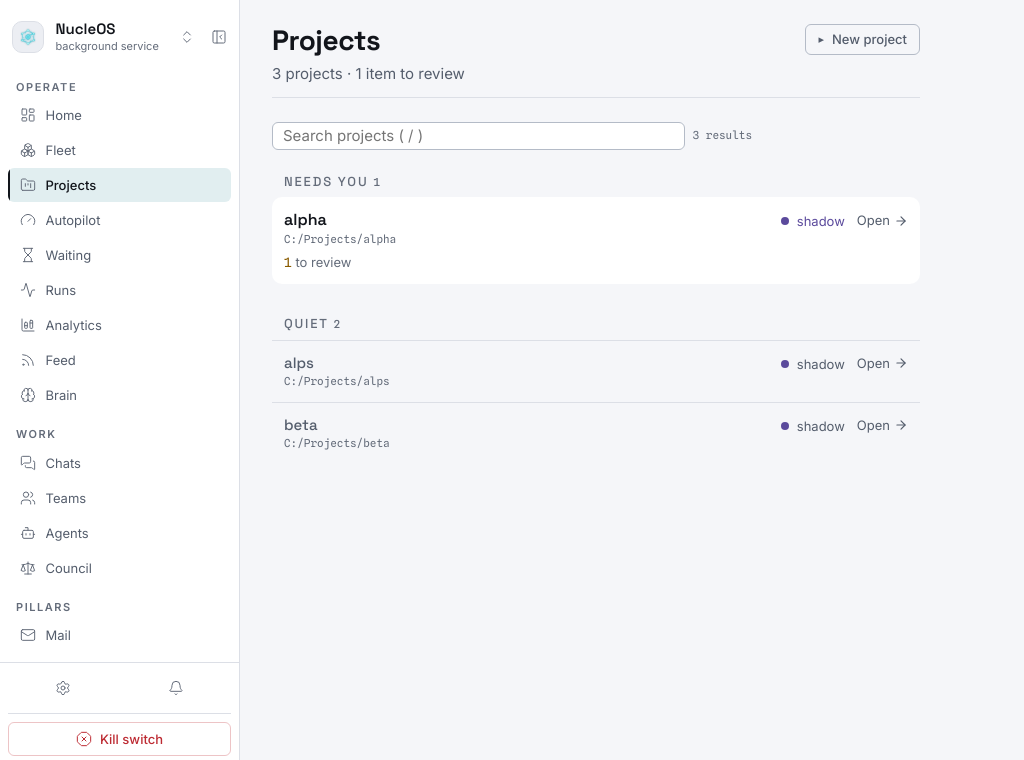
the roster › filters the groups by name and opens the only match on Enter
Expected: the element "Quiet" is shown, [272,316,920,464]
Type "AL" into the search field labelled "Search projects". click: (478, 136)
box: [272,122,685,150]
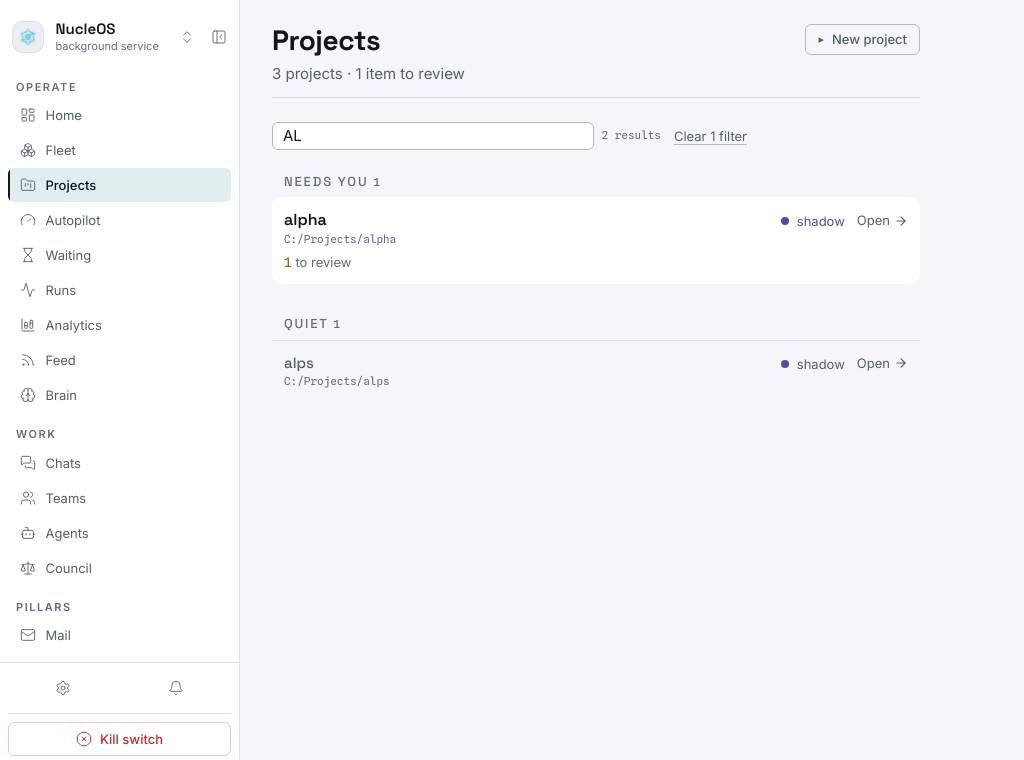
Replace the text in the search field named "Search projects" with "zzz". click: (433, 136)
box: [272,122,594,150]
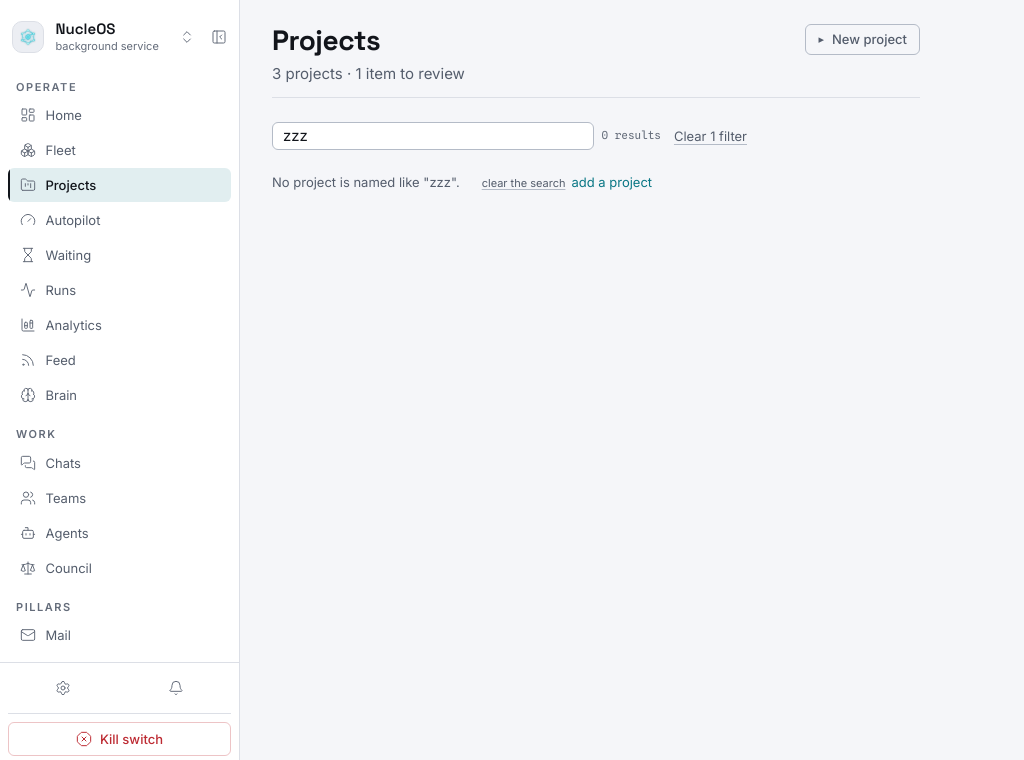
Expected: the text "No project is named like \"zzz\"." is shown, [272,174,460,191]
Replace the text in the search field named "Search projects" with "bet". click: (433, 136)
box: [272,122,594,150]
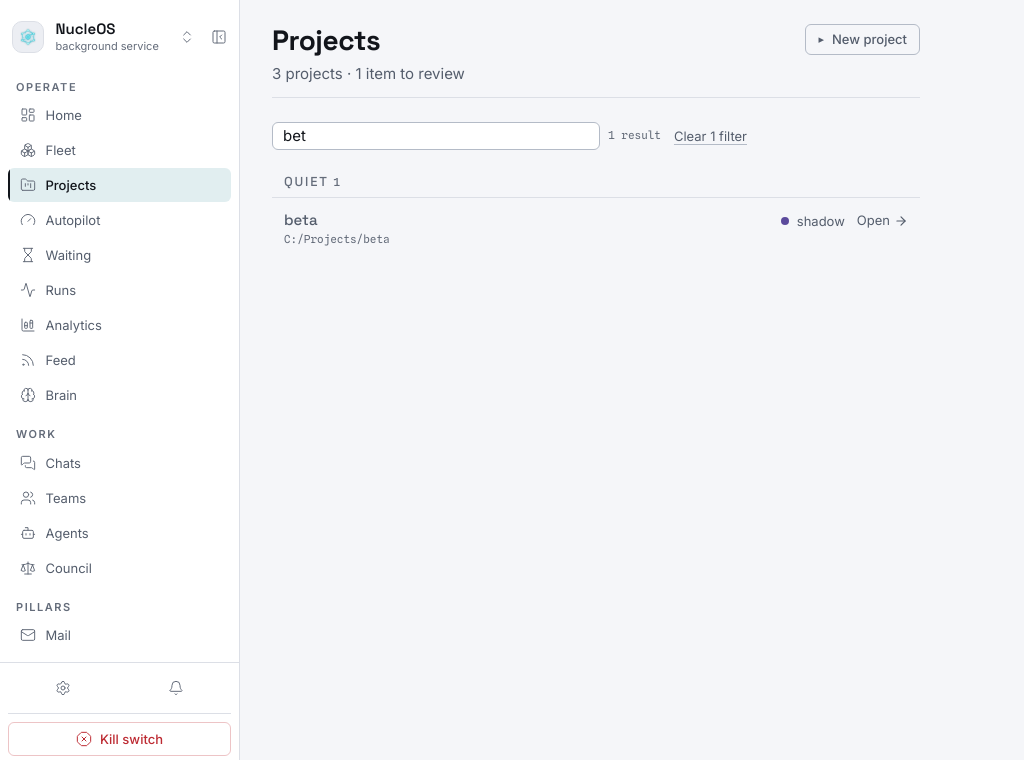
Press Enter in the search field named "Search projects", box [272,122,600,150]
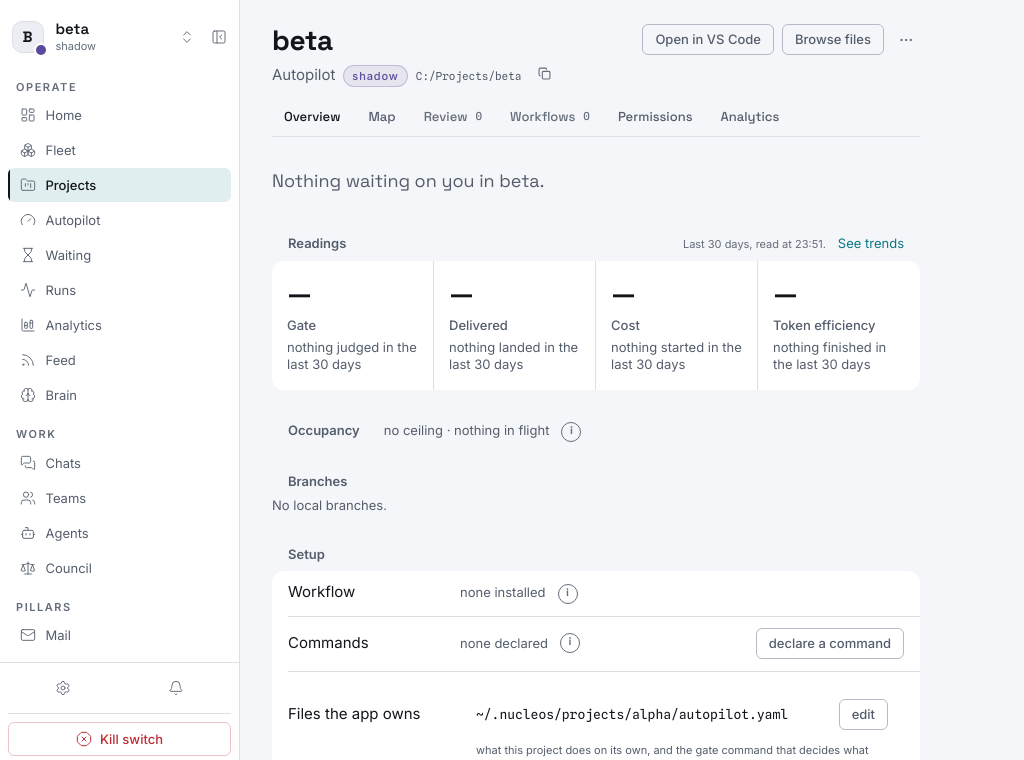
Expected: the link "Map" is shown, [368,108,396,125]
